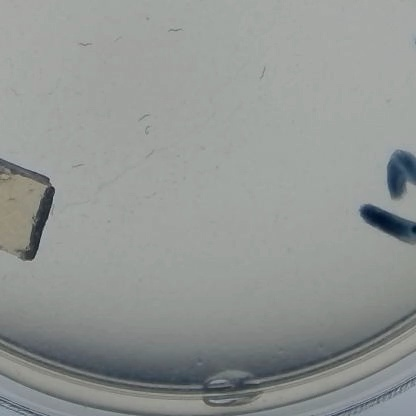worm: (256, 62, 274, 81), (165, 22, 185, 36), (8, 85, 24, 98), (70, 162, 90, 172), (135, 112, 153, 123), (145, 147, 158, 162), (143, 190, 160, 201), (141, 124, 155, 137), (79, 39, 94, 50), (113, 33, 124, 46)
